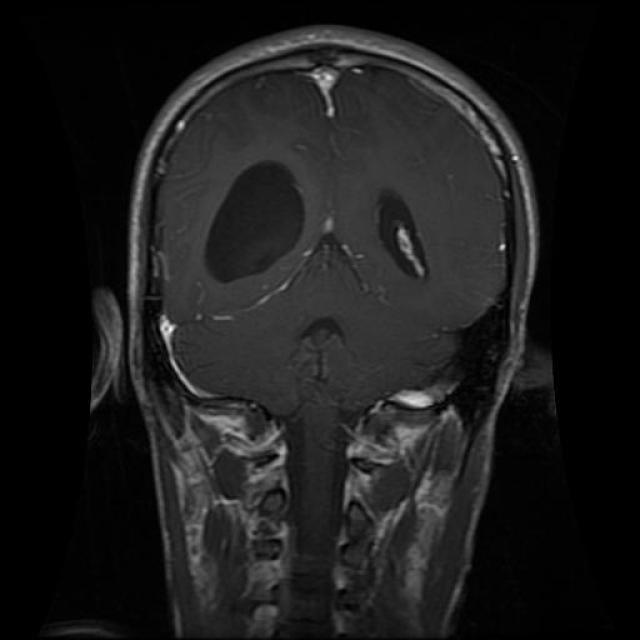glioma: (198, 161, 308, 284), (375, 185, 435, 285)
